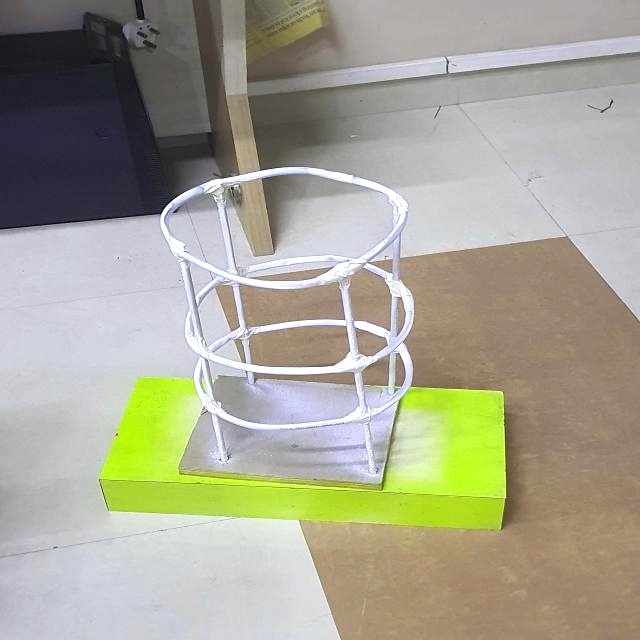silo: (150, 169, 412, 496)
